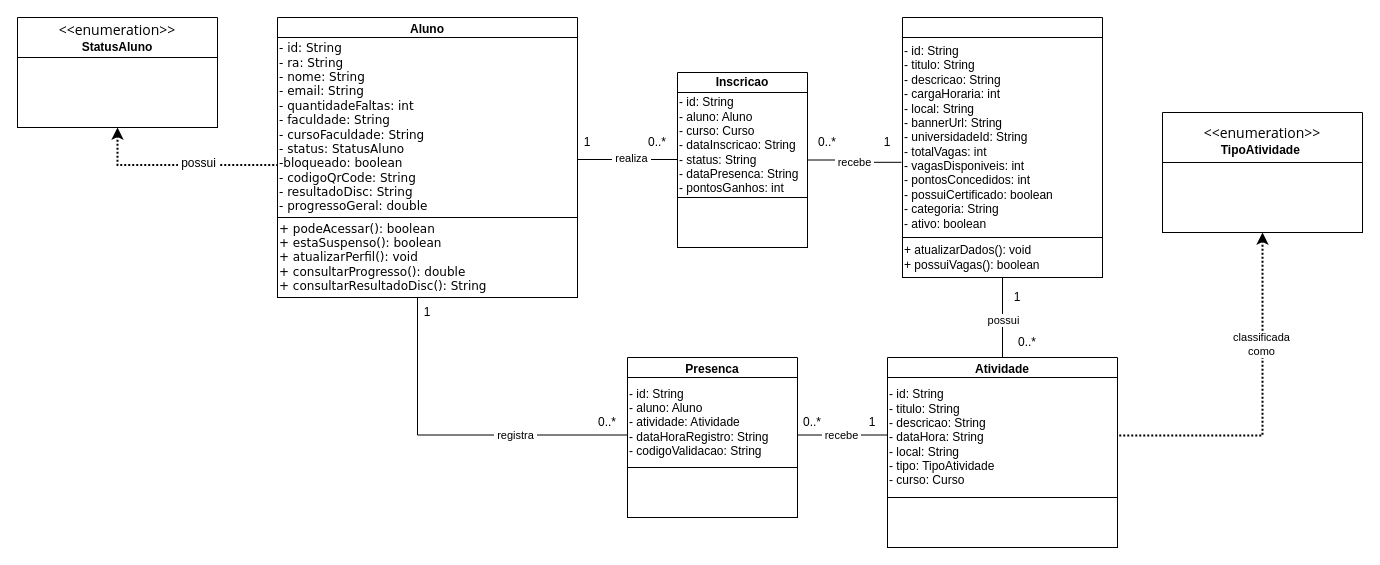
Image size: 1380x565. Some labels were removed from this diagram. The box of each missing label's shape, as (x1, y1, x2, y2) in pixels:
+ alterarDataHora(dataHora: String): void + consultarInformacoes(): String: (886, 496, 1118, 548)
+ confirmar(): void + cancelar(): void + estaAtiva(): boolean: (676, 196, 808, 248)
+ validarEntrada(): boolean + consultarRegistro(): String: (626, 466, 798, 518)
ATIVO SUSPENSO BLOQUEADO INATIVO: (16, 56, 218, 128)
AULA PALESTRA OFICINA EVENTO: (1162, 162, 1362, 232)
Curso: (902, 16, 1102, 268)
